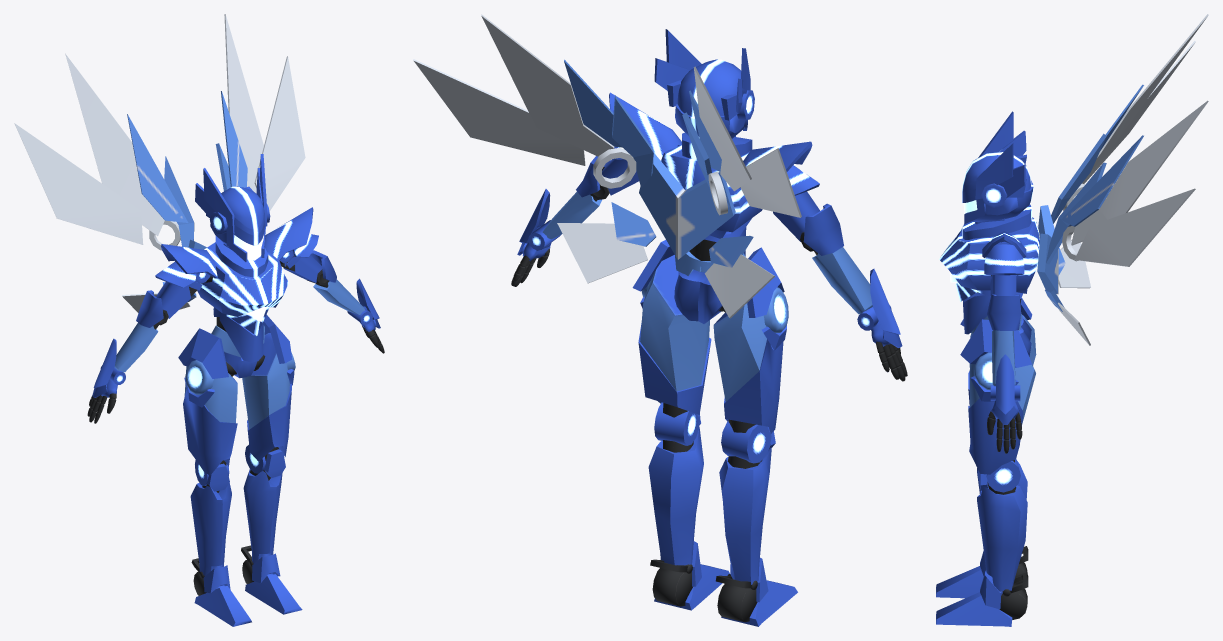
File: Female_9.glb
3 renders of one model, left to right at view 1: azimuth 30°, elevation 25°; view 2: azimuth 150°, elevation 25°; view 3: azimuth 270°, elevation 25°, orthographic. The views are drawn at different scales.
Parts seen in each view (by area): view 1: W1, WW2, WW1, GNG, BR1, GV2, GV1, NT, BR2, GV1.1, ARM1; view 2: W1, WW2, WW1, GNG, GV2, BR1, GV1, ARM1, BR2; view 3: W1, WW2, WW1, GNG, BR2, NT, GV2.2, ARM2, GV2.
Boxes of the visible parts, x1,y1,x2,y2 form: W1: [87, 154, 384, 626]; WW2: [14, 14, 305, 312]; WW1: [127, 91, 247, 301]; GNG: [197, 242, 288, 321]; BR1: [178, 328, 228, 378]; GV2: [265, 207, 313, 260]; GV1: [161, 244, 217, 279]; NT: [215, 236, 268, 277]; BR2: [263, 314, 292, 363]; GV1.1: [155, 262, 196, 287]; ARM1: [93, 338, 116, 387]; W1: [511, 29, 907, 626]; WW2: [413, 14, 801, 318]; WW1: [564, 59, 753, 267]; GNG: [661, 144, 762, 238]; GV2: [609, 92, 681, 160]; BR1: [747, 247, 784, 317]; GV1: [739, 141, 812, 188]; ARM1: [870, 268, 900, 334]; BR2: [632, 240, 674, 291]; W1: [936, 111, 1036, 626]; WW2: [1058, 14, 1208, 345]; WW1: [1037, 84, 1143, 311]; GNG: [939, 217, 1039, 293]; BR2: [960, 319, 1032, 367]; NT: [962, 204, 1032, 239]; GV2.2: [984, 244, 1024, 275]; ARM2: [996, 354, 1014, 414]; GV2: [982, 231, 1026, 257].
Bounding box in the file's own units: 3.6 × 5.8 × 2.62.
2 materials, 2 textured.
